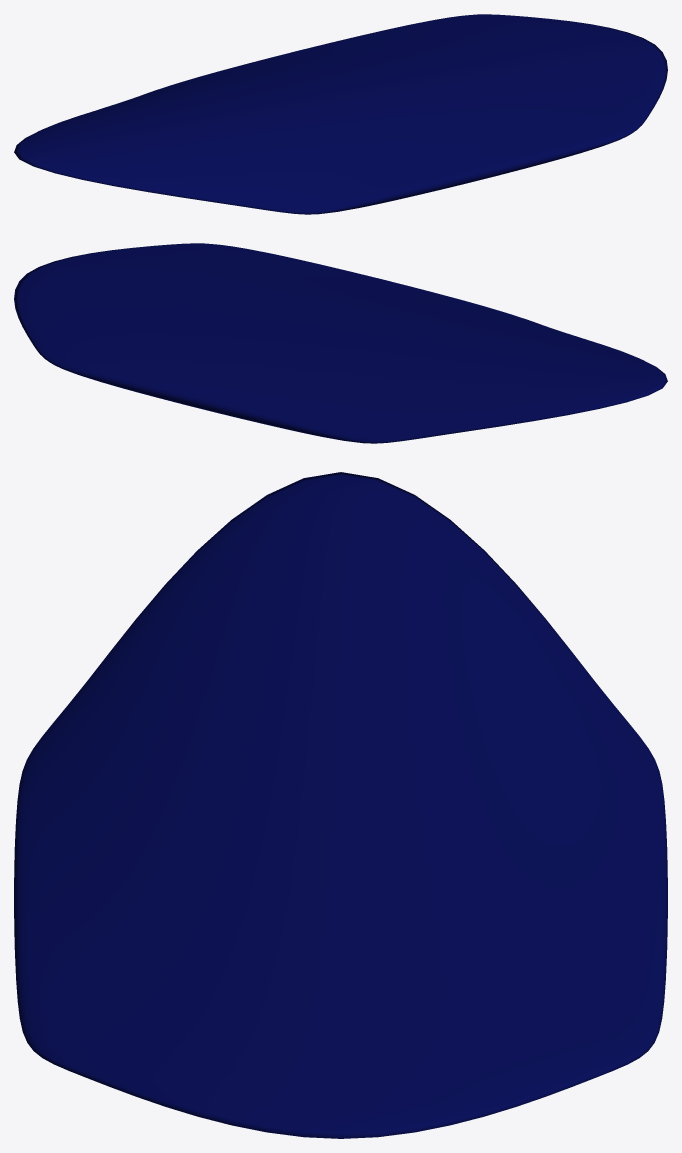
File: spaceship_top.glb
The picture shows the model from 3 angles, top to bottom: view 1: azimuth 30°, elevation 25°; view 2: azimuth 150°, elevation 25°; view 3: azimuth 270°, elevation 25°; orthographic projection. The views are drawn at different scales.
Parts seen in each view (by area): view 1: Robo_spacecraft_top; view 2: Robo_spacecraft_top; view 3: Robo_spacecraft_top.
Boxes of the visible parts, <box> form: Robo_spacecraft_top: <box>14,14,667,214</box>; Robo_spacecraft_top: <box>14,243,667,443</box>; Robo_spacecraft_top: <box>14,472,667,1138</box>.
Bounding box in the file's own units: 4.62 × 0.3632 × 2.16.
